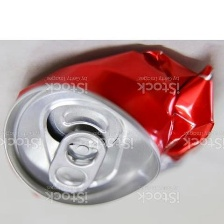can: (2, 45, 215, 209)
